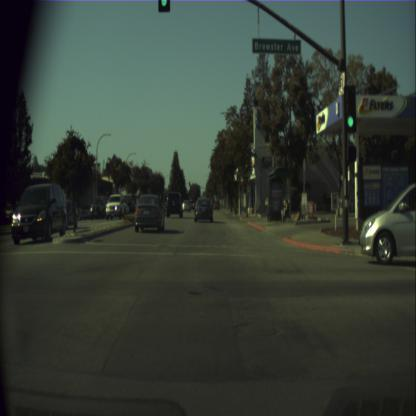Green: (344, 84, 356, 131), (158, 0, 170, 10), (198, 184, 200, 190), (213, 192, 214, 198)
